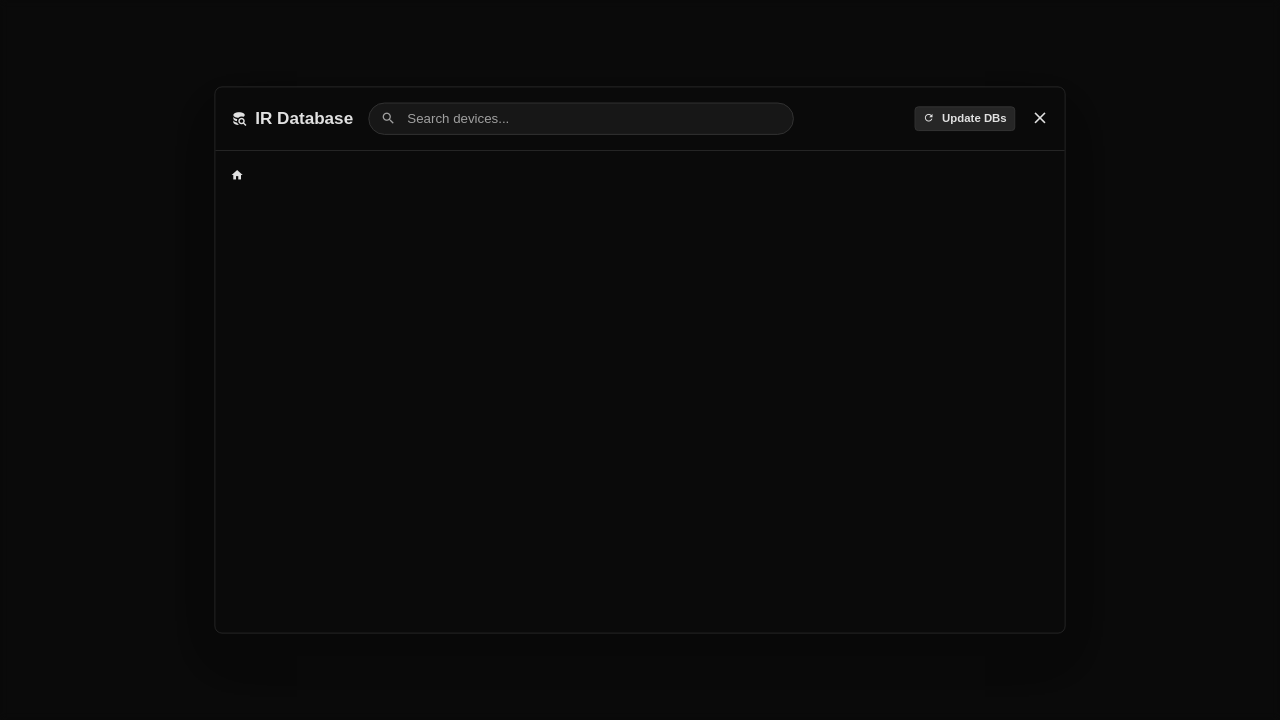
Scenario: IrDbPicker.vue › handles empty search results
This screenshot has width=1280, height=720.
In the field with placeholder "Search devices...": (596, 119) [400,104,793,134], type "noresults"
Wait 300 ms
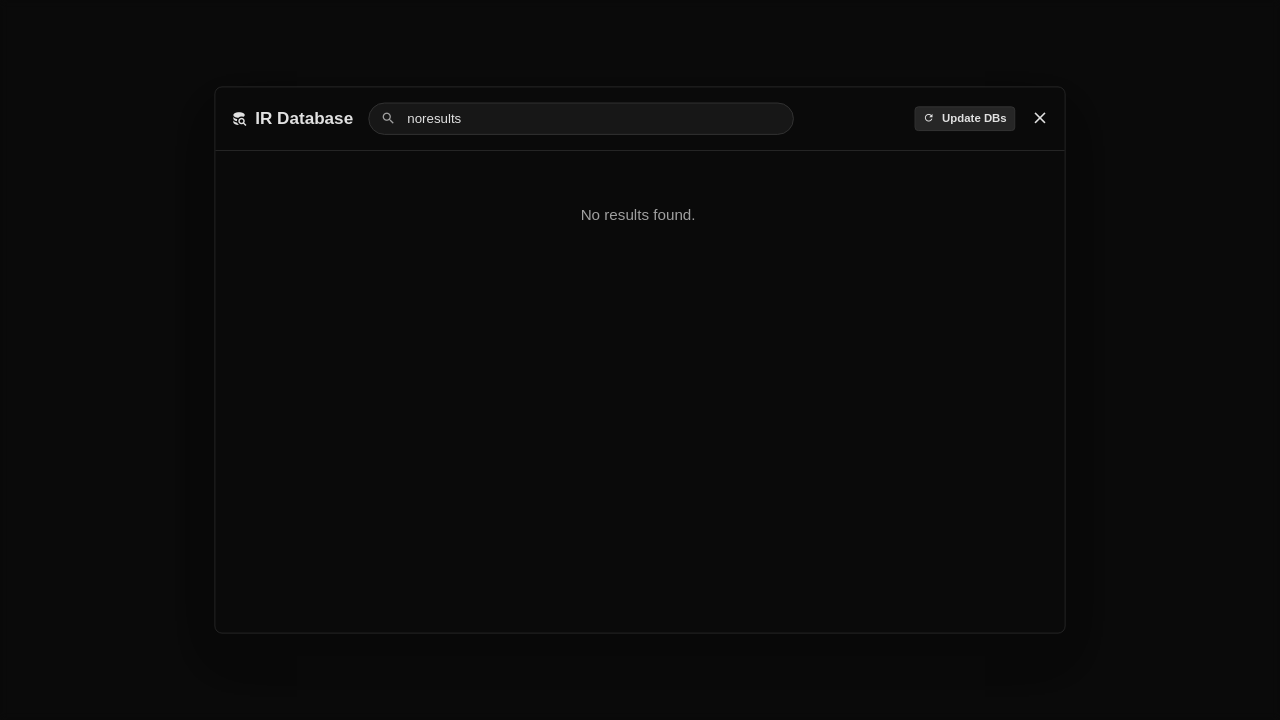
Expected: the text "No results found." is shown, [581,207,696,223]
